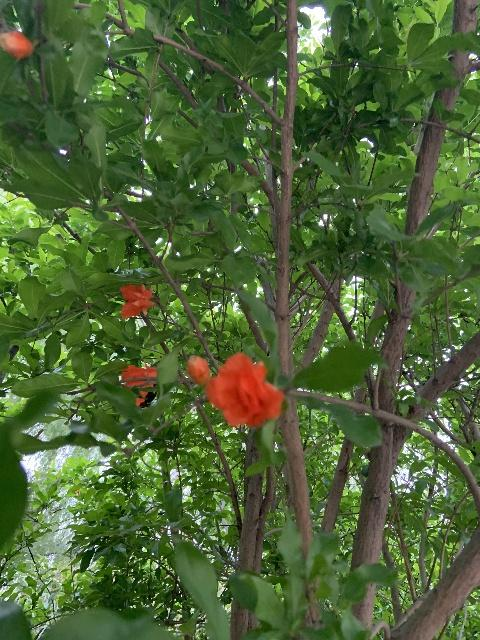bud: (0, 30, 33, 58), (186, 355, 210, 384)
flower: (205, 353, 283, 427), (121, 361, 156, 405), (119, 282, 156, 318)
